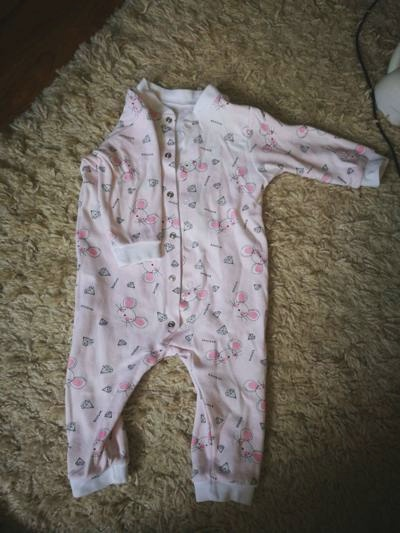Body: (32, 75, 387, 500)
